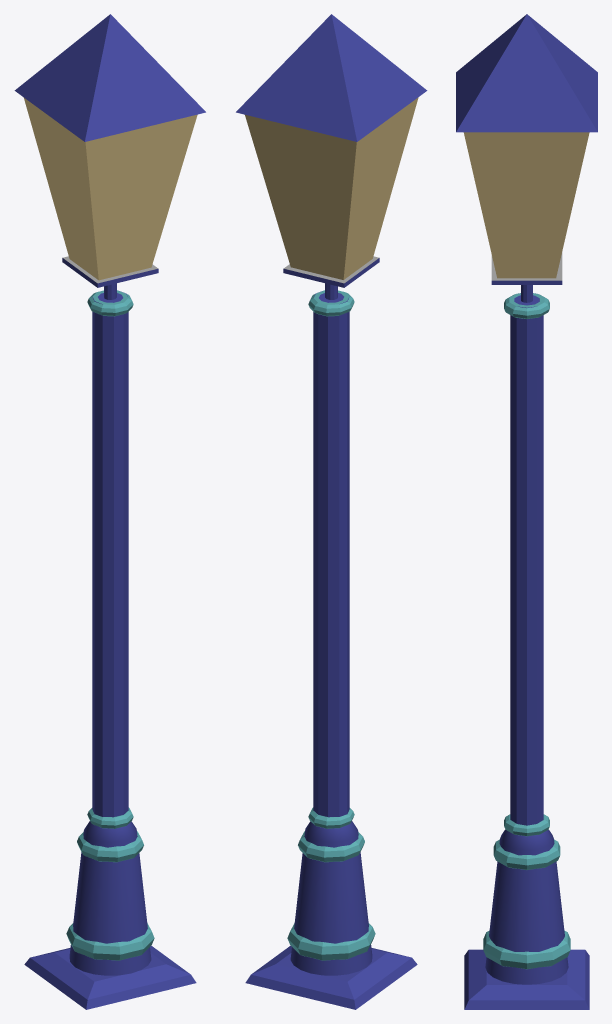
File: Lamp.fbx
3 renders of one model, left to right at view 1: azimuth 30°, elevation 25°; view 2: azimuth 150°, elevation 25°; view 3: azimuth 270°, elevation 25°, orthographic.
Visible parts, largest first — view 1: lantern_body1; view 2: lantern_body1; view 3: lantern_body1.
Part boxes in pixels (x1=…): lantern_body1: x1=14, y1=14, x2=205, y2=1009; lantern_body1: x1=236, y1=14, x2=427, y2=1009; lantern_body1: x1=456, y1=14, x2=597, y2=1009.
Size of the model in its own units: 2 by 15.07 by 2.
